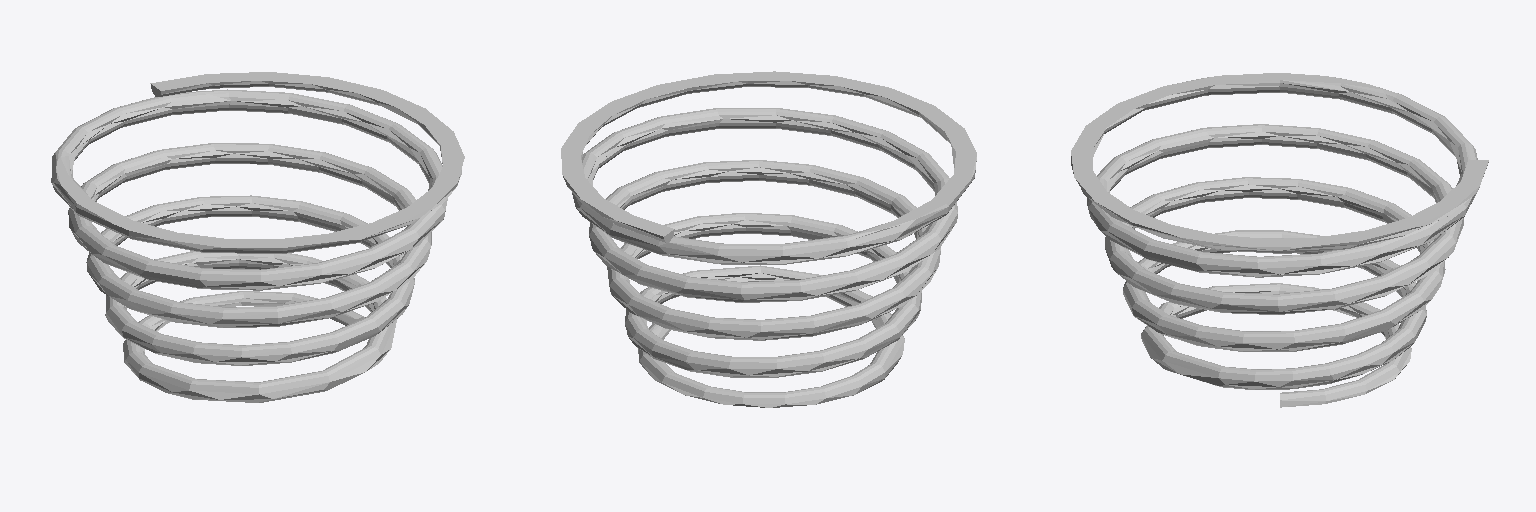
File: 80. Пружина рычага (нагрузка).obj
The picture shows the model from 3 angles: view 1: azimuth 30°, elevation 25°; view 2: azimuth 150°, elevation 25°; view 3: azimuth 270°, elevation 25°; orthographic projection.
Parts seen in each view (by area): view 1: Твердое тело1; view 2: Твердое тело1; view 3: Твердое тело1.
Boxes of the visible parts, box(x1,y1,x2,y2) form: Твердое тело1: box(51, 72, 464, 402); Твердое тело1: box(561, 71, 976, 407); Твердое тело1: box(1071, 73, 1488, 407).
Bounding box in the file's own units: 39.25 × 20 × 39.5.